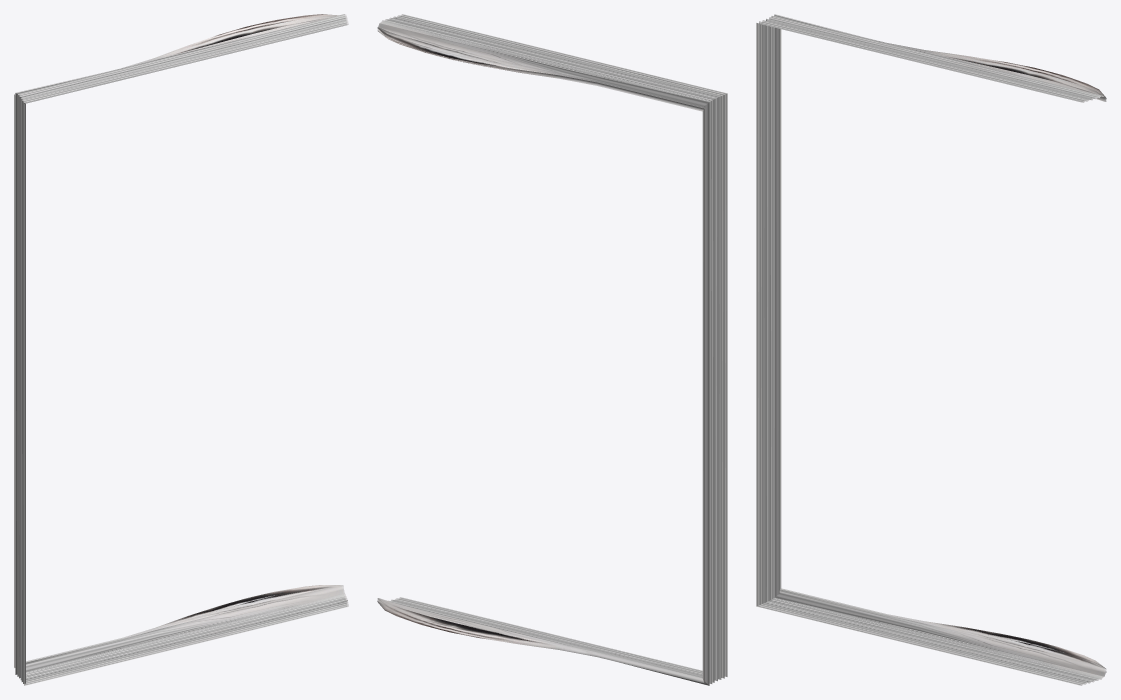
File: MeshBookFront_16_1_GeomSubset_0.obj
3 views of the same model, side by side, from view 1: azimuth 30°, elevation 25°; view 2: azimuth 150°, elevation 25°; view 3: azimuth 330°, elevation 25° (orthographic).
Visible parts, largest first — view 1: MeshBookFront_16_1_GeomSubset_0; view 2: MeshBookFront_16_1_GeomSubset_0; view 3: MeshBookFront_16_1_GeomSubset_0.
Part boxes in pixels (box(x1,y1,x2,y2)): MeshBookFront_16_1_GeomSubset_0: box(14, 14, 348, 685); MeshBookFront_16_1_GeomSubset_0: box(377, 14, 727, 685); MeshBookFront_16_1_GeomSubset_0: box(756, 14, 1106, 685).
Bounding box in the file's own units: 0.1283 × 0.2137 × 0.0187.
